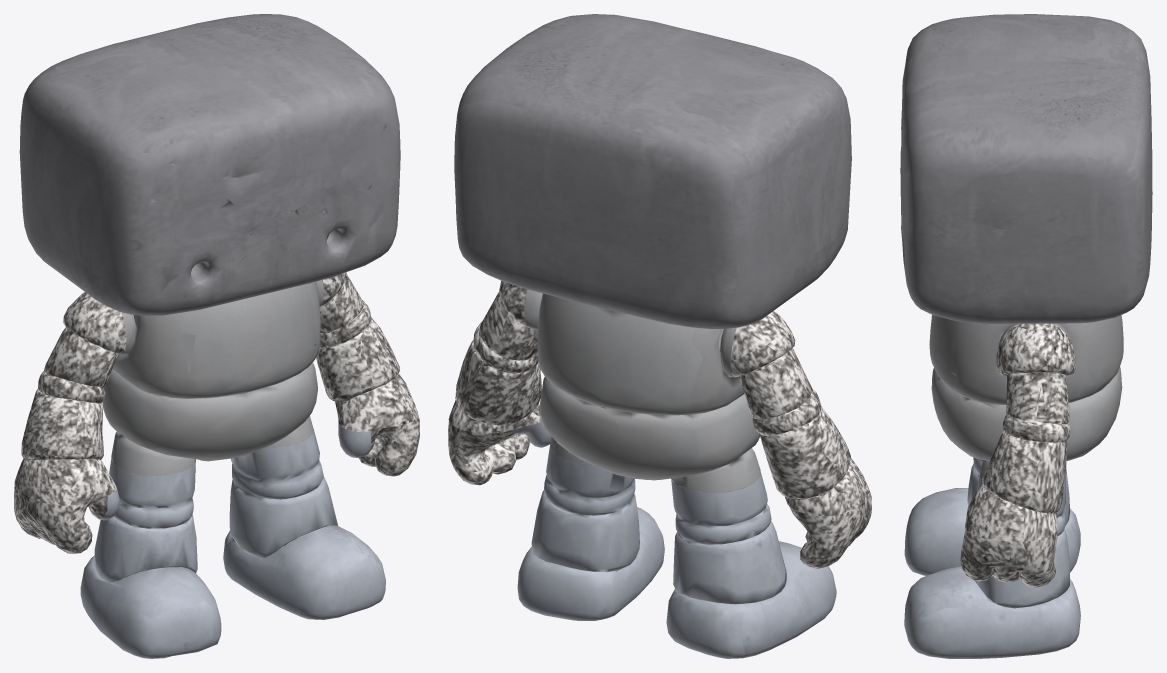
The model's file is 09-monolith-tanka--mini_robot_3d_model.glb.
The picture shows the model from 3 angles, left to right: view 1: azimuth 30°, elevation 25°; view 2: azimuth 150°, elevation 25°; view 3: azimuth 270°, elevation 25°; orthographic projection. The views are drawn at different scales.
Visible parts, largest first — view 1: head_mesh, feet_mesh, body_mesh, arms_mesh; view 2: head_mesh, feet_mesh, body_mesh, arms_mesh; view 3: head_mesh, arms_mesh, feet_mesh, body_mesh.
Part boxes in pixels (bbox=[...]): head_mesh: bbox=[19, 14, 400, 315]; feet_mesh: bbox=[80, 420, 385, 658]; body_mesh: bbox=[102, 280, 323, 476]; arms_mesh: bbox=[14, 272, 419, 553]; head_mesh: bbox=[454, 14, 851, 328]; feet_mesh: bbox=[512, 422, 836, 658]; body_mesh: bbox=[524, 289, 760, 492]; arms_mesh: bbox=[448, 281, 871, 568]; head_mesh: bbox=[900, 14, 1152, 323]; arms_mesh: bbox=[960, 323, 1075, 587]; feet_mesh: bbox=[904, 457, 1080, 658]; body_mesh: bbox=[929, 315, 1123, 481].
Size of the model in its own units: 2.27 by 3 by 1.28.
Materials: 4 (4 with a texture image).
